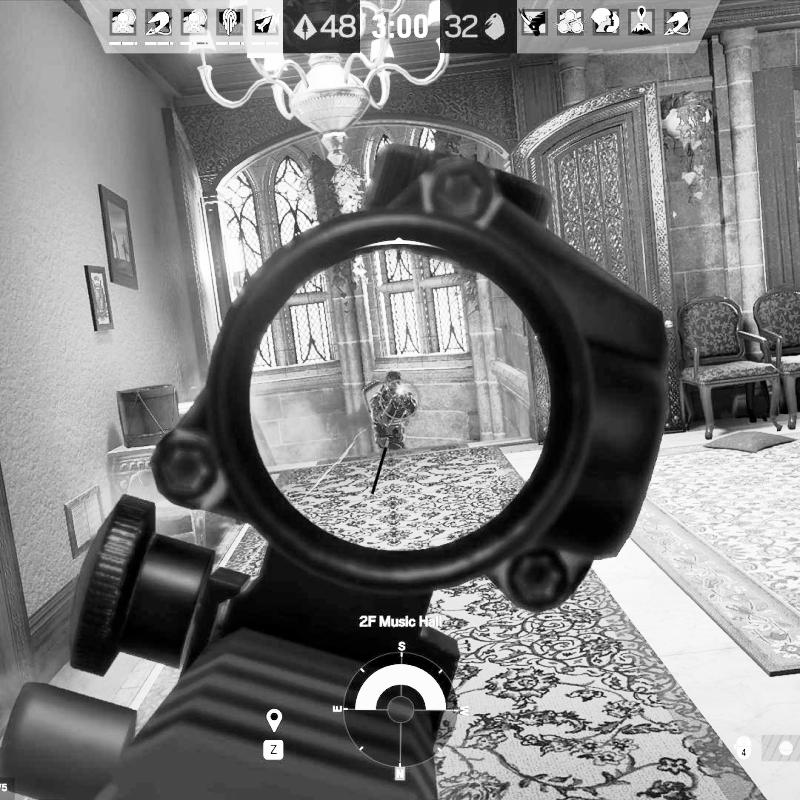Character: (362, 368, 420, 454)
Head: (386, 371, 407, 391)
